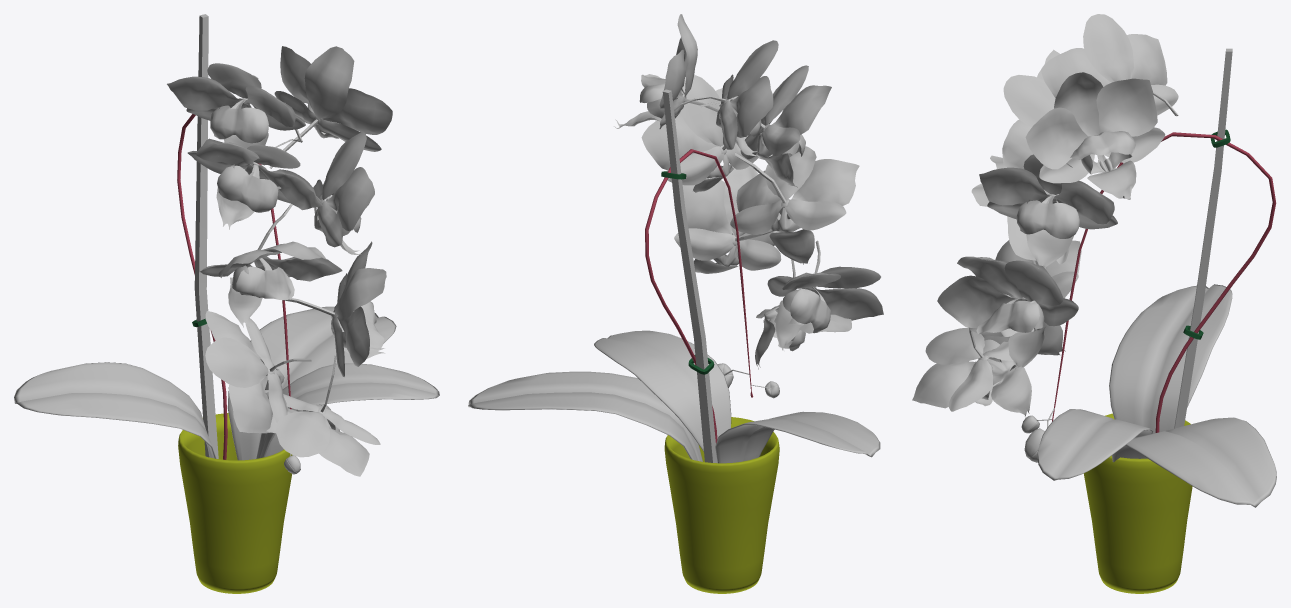
The model's file is phal_young_king_fbx.glb.
The picture shows the model from 3 angles, left to right: view 1: azimuth 30°, elevation 25°; view 2: azimuth 150°, elevation 25°; view 3: azimuth 270°, elevation 25°; orthographic projection. The views are drawn at different scales.
Parts seen in each view (by area): view 1: Pot, Leaf_3, Leaf_2, Leaf_1, Stick, Plane120, Plane088, Plane005, Plane114, Plane118, Plane130, Plane087 (+25 smaller); view 2: Pot, Leaf_2, Leaf_1, Leaf_3, Stick, Plane095, Plane020, Plane104, Stem, Plane102, Plane087, Plane127 (+25 smaller); view 3: Pot, Leaf_3, Leaf_2, Leaf_1, Stick, Plane119, Plane128, Plane118, Plane019, Stem, Plane106, Plane120 (+25 smaller).
Boxes of the visible parts, x1=… form: Pot: x1=178, y1=413, x2=292, y2=593; Leaf_3: x1=14, y1=362, x2=216, y2=458; Leaf_2: x1=227, y1=306, x2=396, y2=460; Leaf_1: x1=256, y1=363, x2=439, y2=458; Stick: x1=194, y1=14, x2=218, y2=458; Plane120: x1=304, y1=46, x2=354, y2=119; Plane088: x1=205, y1=337, x2=268, y2=387; Plane005: x1=276, y1=411, x2=329, y2=457; Plane114: x1=217, y1=164, x2=278, y2=212; Plane118: x1=322, y1=88, x2=392, y2=134; Plane130: x1=210, y1=99, x2=268, y2=143; Plane087: x1=228, y1=375, x2=272, y2=433; Pot: x1=664, y1=417, x2=779, y2=593; Leaf_2: x1=468, y1=371, x2=702, y2=461; Leaf_1: x1=594, y1=330, x2=731, y2=451; Leaf_3: x1=715, y1=411, x2=880, y2=463; Stick: x1=662, y1=89, x2=717, y2=463; Plane095: x1=791, y1=159, x2=859, y2=205; Plane020: x1=682, y1=178, x2=732, y2=234; Plane104: x1=678, y1=75, x2=723, y2=146; Stem: x1=645, y1=149, x2=753, y2=443; Plane102: x1=641, y1=112, x2=717, y2=170; Plane087: x1=815, y1=288, x2=883, y2=320; Plane127: x1=730, y1=76, x2=773, y2=136; Pot: x1=1083, y1=413, x2=1192, y2=593; Leaf_3: x1=1109, y1=284, x2=1232, y2=433; Leaf_2: x1=1112, y1=417, x2=1276, y2=507; Leaf_1: x1=1037, y1=409, x2=1153, y2=480; Stick: x1=1174, y1=48, x2=1232, y2=428; Plane119: x1=1096, y1=78, x2=1157, y2=136; Plane128: x1=1083, y1=14, x2=1133, y2=82; Plane118: x1=1025, y1=107, x2=1088, y2=169; Plane019: x1=937, y1=275, x2=1020, y2=327; Stem: x1=1052, y1=132, x2=1276, y2=432; Plane106: x1=1016, y1=195, x2=1079, y2=238; Plane120: x1=1054, y1=72, x2=1103, y2=136.
Bounding box in the file's own units: 0.234 × 0.3067 × 0.1859.
